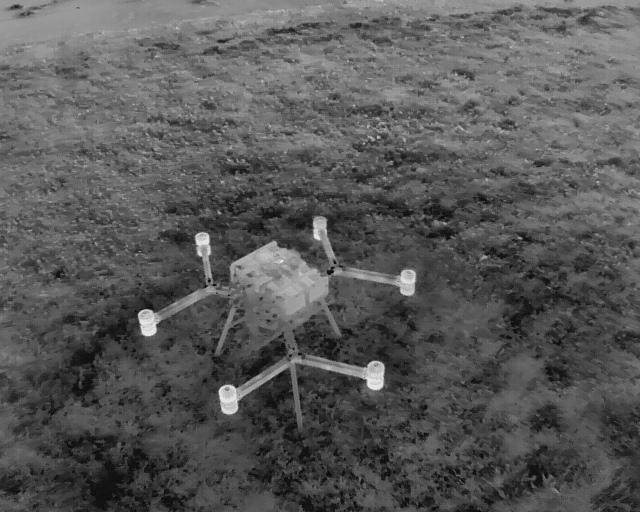drone: (130, 190, 437, 444)
